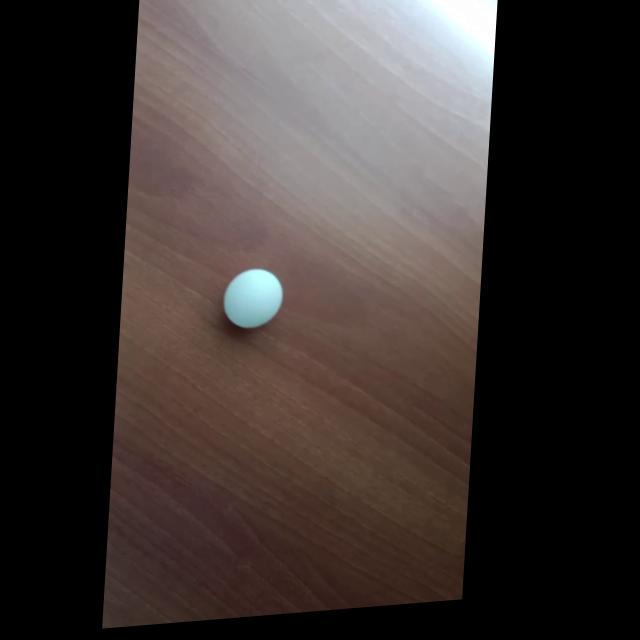white ball: (221, 265, 285, 331)
